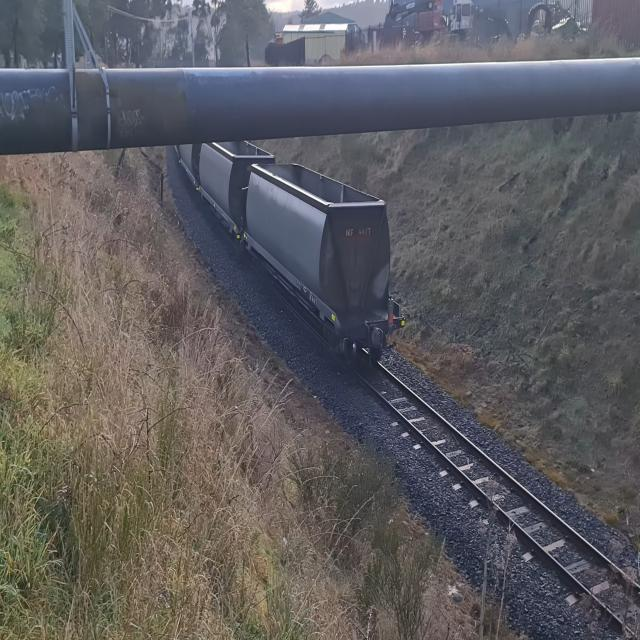hopper: (240, 156, 409, 372)
